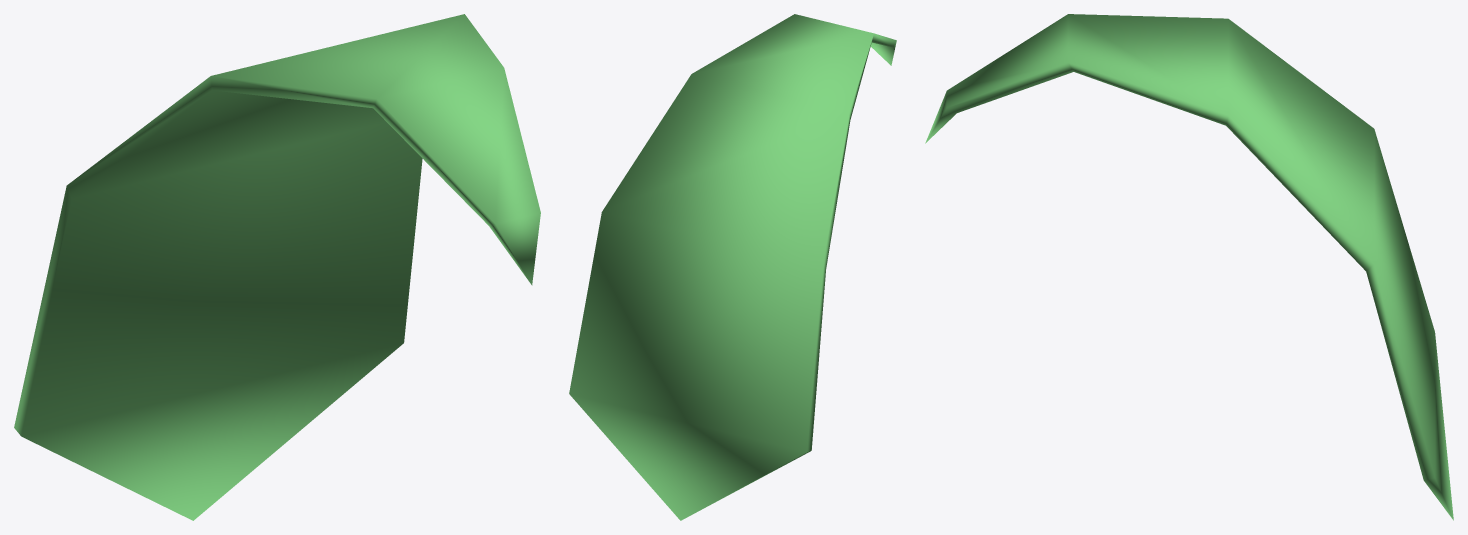
File: fernTexturedWithAlpha.fbx
The picture shows the model from 3 angles, left to right: view 1: azimuth 30°, elevation 25°; view 2: azimuth 150°, elevation 25°; view 3: azimuth 270°, elevation 25°; orthographic projection. The views are drawn at different scales.
Visible parts, largest first — view 1: Cube; view 2: Cube; view 3: Cube.
Boxes of the visible parts, x1,y1,x2,y2 form: Cube: (14,14,540,520); Cube: (569,14,896,520); Cube: (925,14,1453,520).
Size of the model in its own units: 6 by 9.27 by 9.2.
